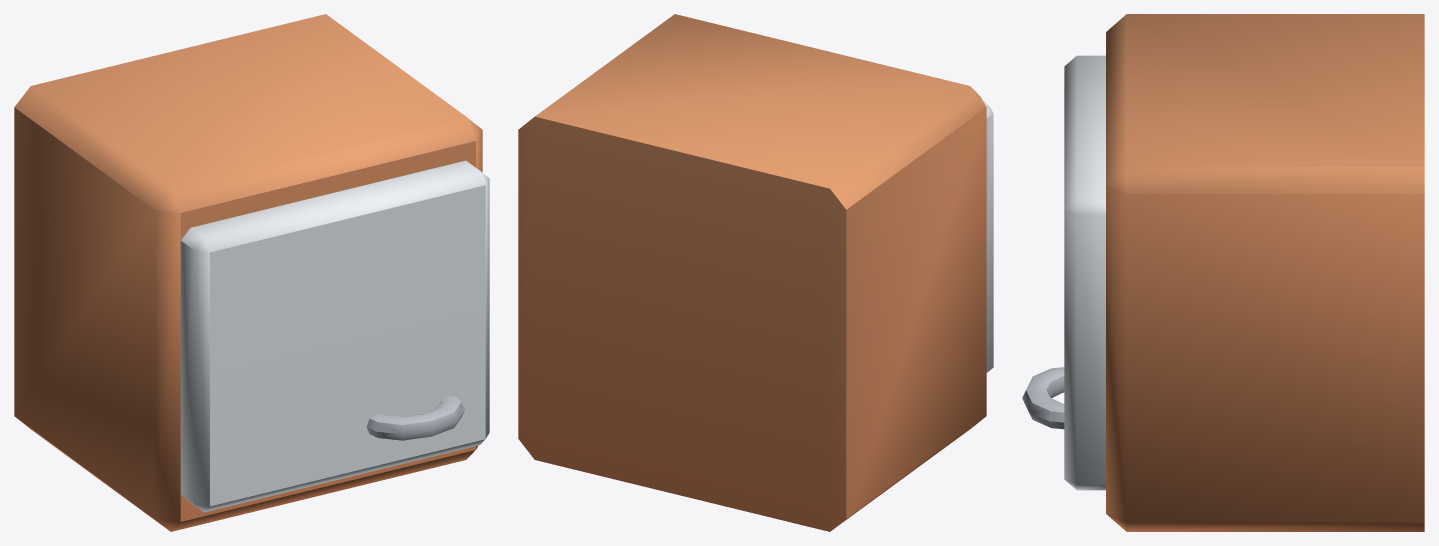
The model's file is Wall Cabinet Single-TPEJeA6HQM.glb.
3 views of the same model, side by side, from view 1: azimuth 30°, elevation 25°; view 2: azimuth 150°, elevation 25°; view 3: azimuth 270°, elevation 25° (orthographic). The views are drawn at different scales.
Visible parts, largest first — view 1: wall_cabinet_single_left; view 2: wall_cabinet_single_left; view 3: wall_cabinet_single_left.
Part boxes in pixels (x1=…): wall_cabinet_single_left: x1=14, y1=14, x2=489, y2=531; wall_cabinet_single_left: x1=518, y1=14, x2=993, y2=531; wall_cabinet_single_left: x1=1022, y1=14, x2=1424, y2=531.
Size of the model in its own units: 1 by 1 by 1.
Materials: 1 (1 with a texture image).
